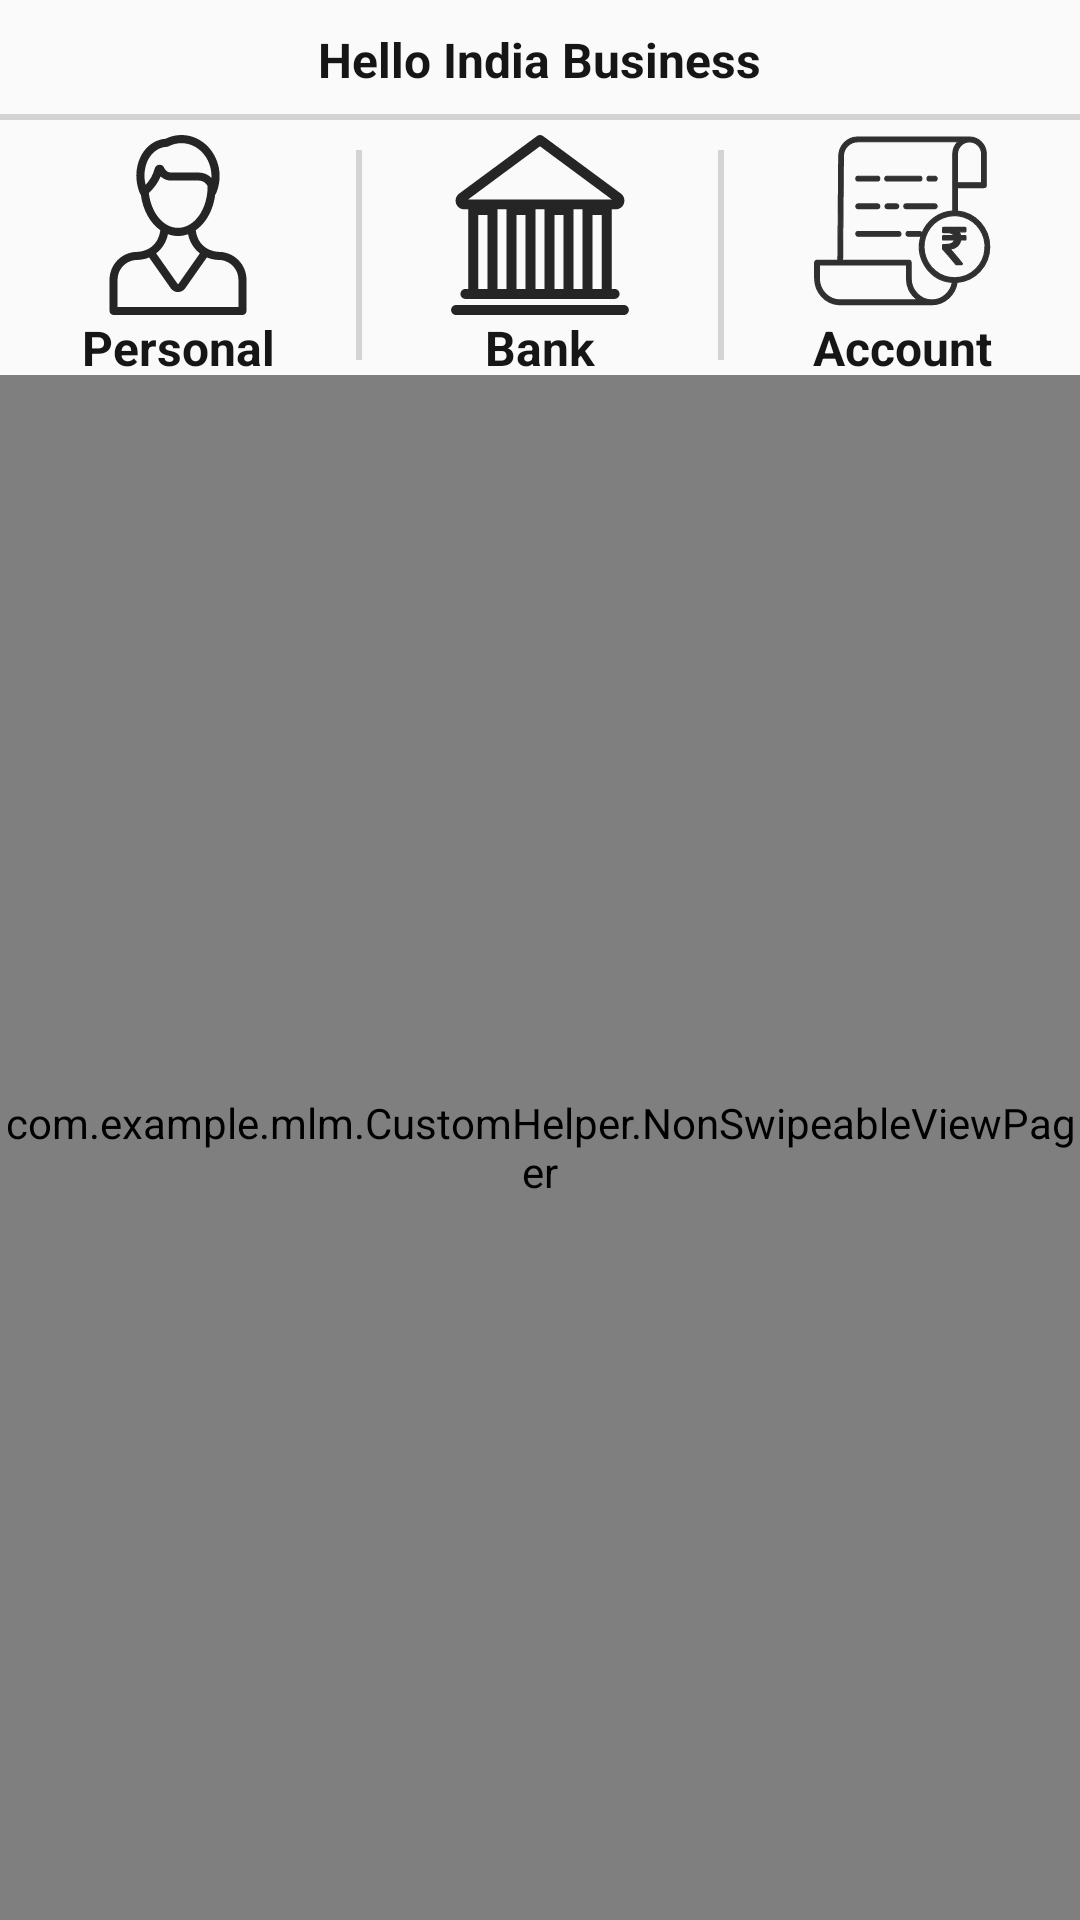

Point at icon controls on the screen. Image size 1080 × 1920, points as point (x, y).
user: point (178, 225)
